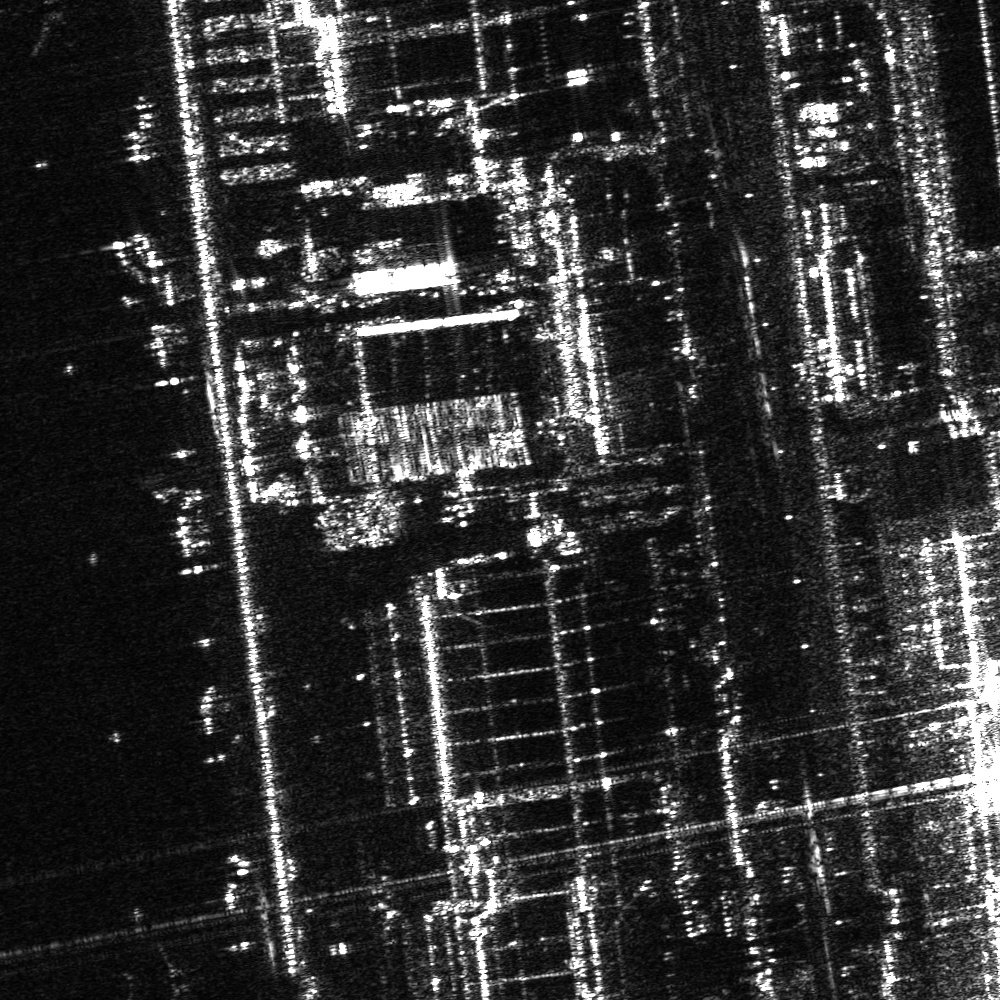Boeing787: (115, 939, 203, 999)
